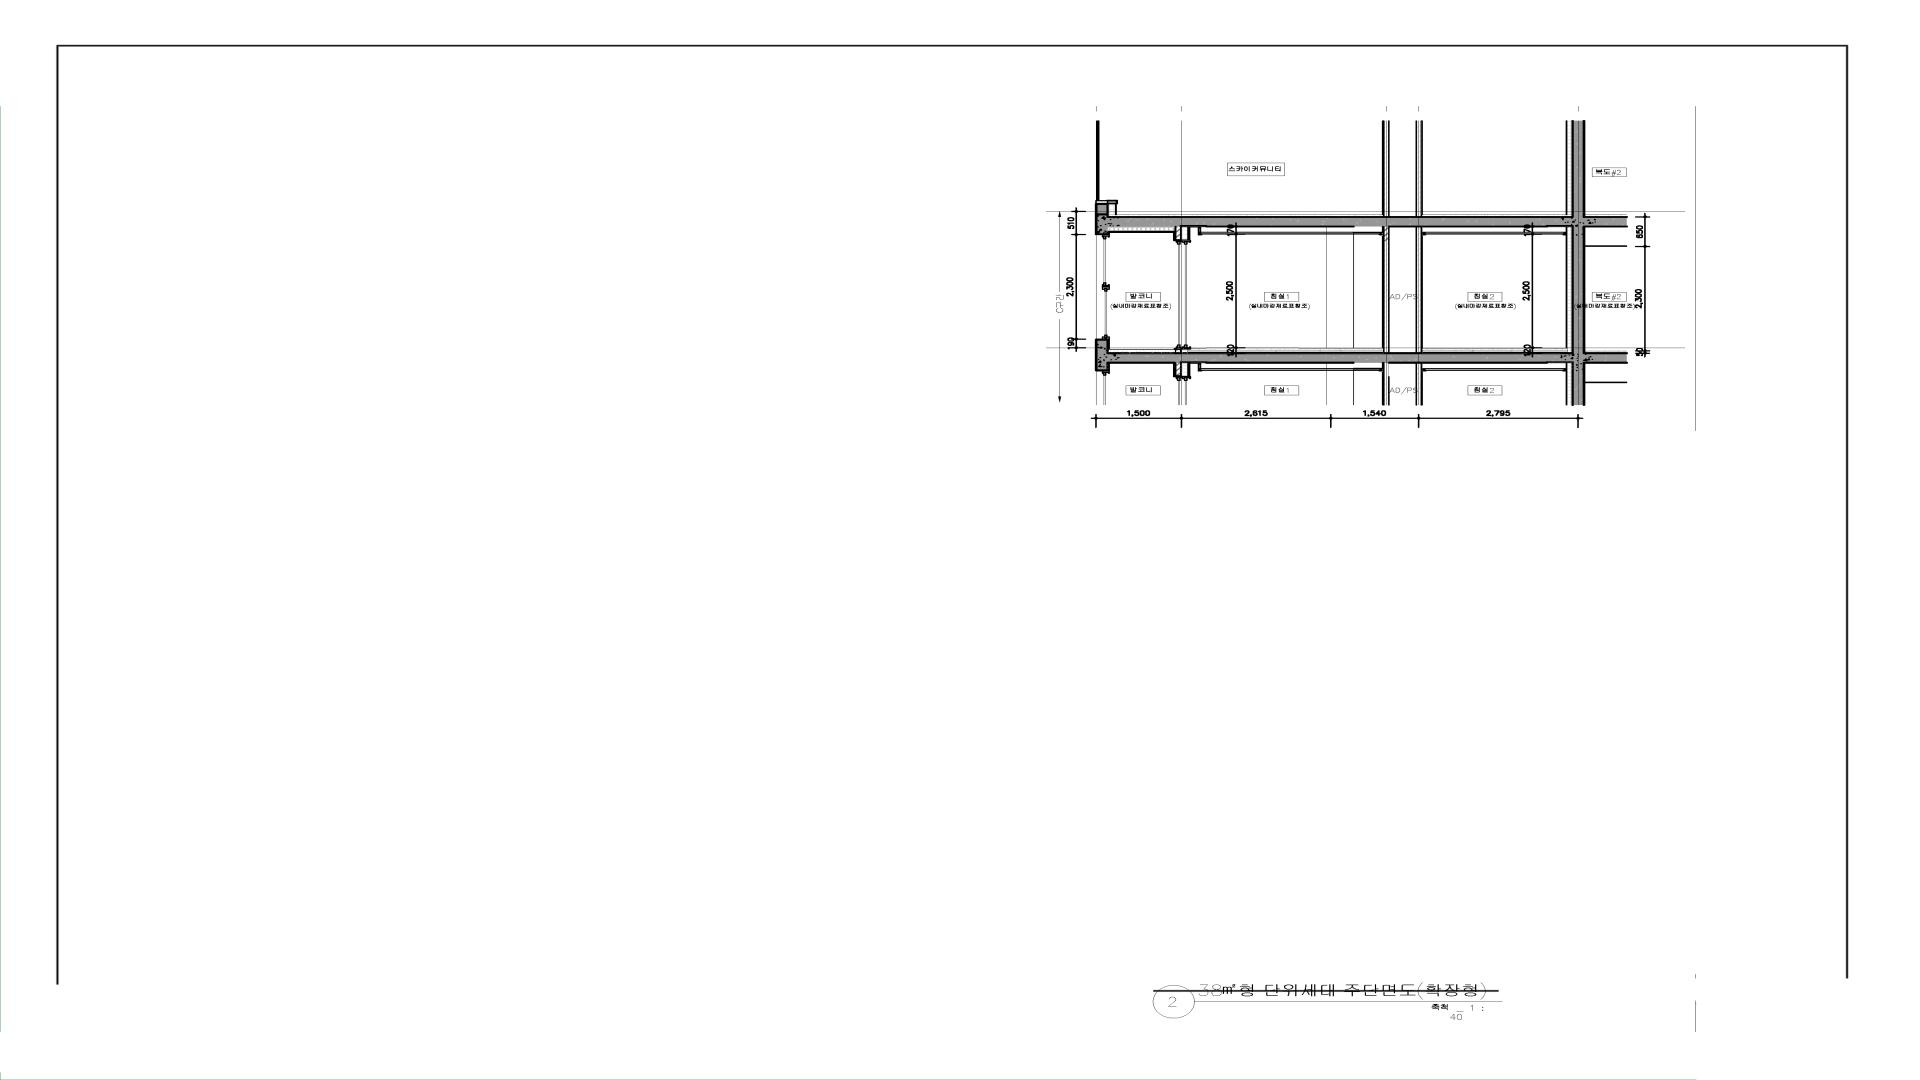wall: (1095, 216, 1586, 364), (1382, 227, 1390, 352), (1416, 227, 1423, 352), (1175, 226, 1182, 240), (1175, 350, 1182, 352)
window: (1176, 240, 1191, 350), (1096, 235, 1110, 339)
